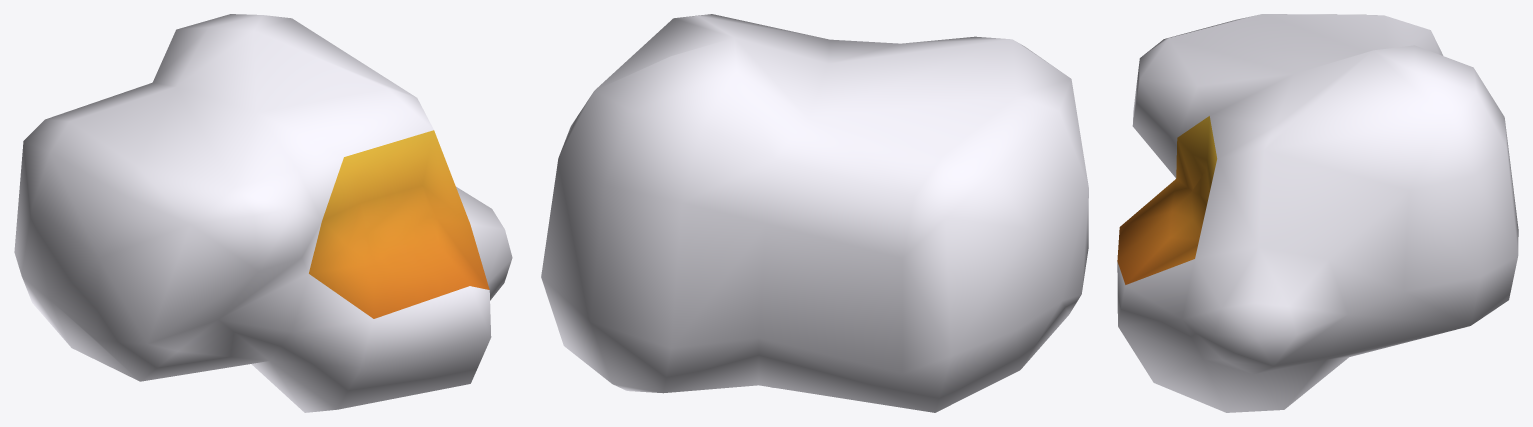
File: Popcorn_Popped03.fbx
The picture shows the model from 3 angles, left to right: view 1: azimuth 30°, elevation 25°; view 2: azimuth 150°, elevation 25°; view 3: azimuth 270°, elevation 25°; orthographic projection. The views are drawn at different scales.
Visible parts, largest first — view 1: Popcorn_Popped03; view 2: Popcorn_Popped03; view 3: Popcorn_Popped03.
Boxes of the visible parts, x1,y1,x2,y2 form: Popcorn_Popped03: [14, 14, 512, 412]; Popcorn_Popped03: [541, 14, 1088, 412]; Popcorn_Popped03: [1117, 14, 1518, 412].
Bounding box in the file's own units: 266 × 195 × 227.
